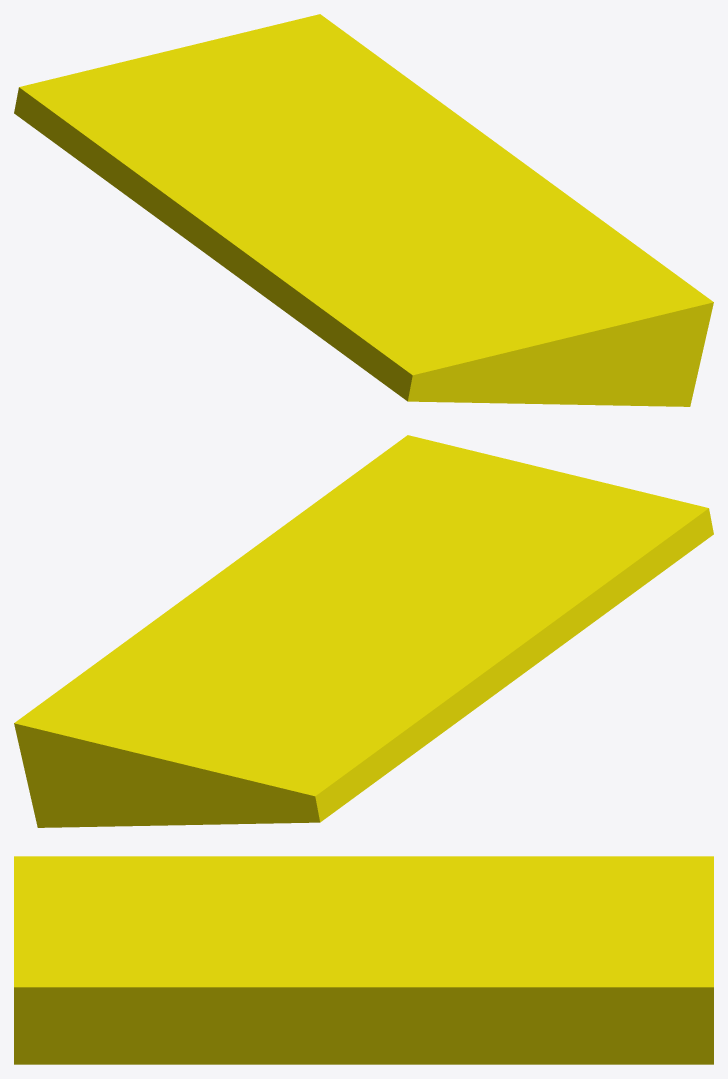
Rendered from corner_beach_90.fbx.
3 views of the same model, one above another, from view 1: azimuth 30°, elevation 25°; view 2: azimuth 150°, elevation 25°; view 3: azimuth 270°, elevation 25° (orthographic). The views are drawn at different scales.
Parts seen in each view (by area): view 1: Box001.001; view 2: Box001.001; view 3: Box001.001.
Part boxes in pixels (x1,y1,x2,y2): Box001.001: (14,14,713,406); Box001.001: (14,435,713,827); Box001.001: (14,856,713,1064).
Bounding box in the file's own units: 126 × 38.96 × 280.
